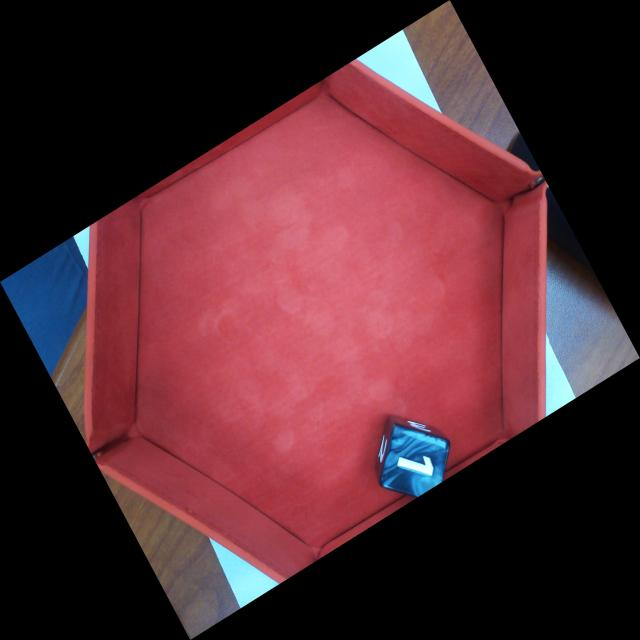dice: (377, 421, 452, 498)
